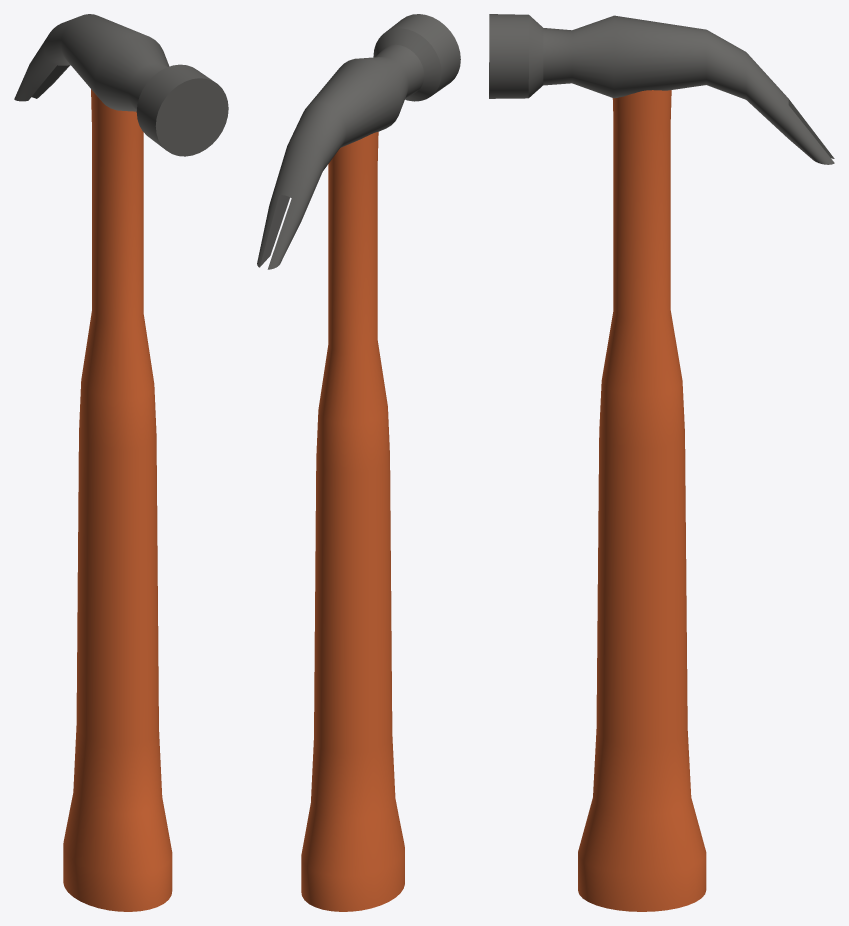
The model's file is Martelo.fbx.
The picture shows the model from 3 angles, left to right: view 1: azimuth 30°, elevation 25°; view 2: azimuth 150°, elevation 25°; view 3: azimuth 270°, elevation 25°; orthographic projection. The views are drawn at different scales.
Visible parts, largest first — view 1: Circle; view 2: Circle; view 3: Circle.
Boxes of the visible parts, <box> form: Circle: <box>14,14,228,911</box>; Circle: <box>257,14,460,911</box>; Circle: <box>489,14,834,911</box>.
Size of the model in its own units: 47.2 by 438 by 158.
